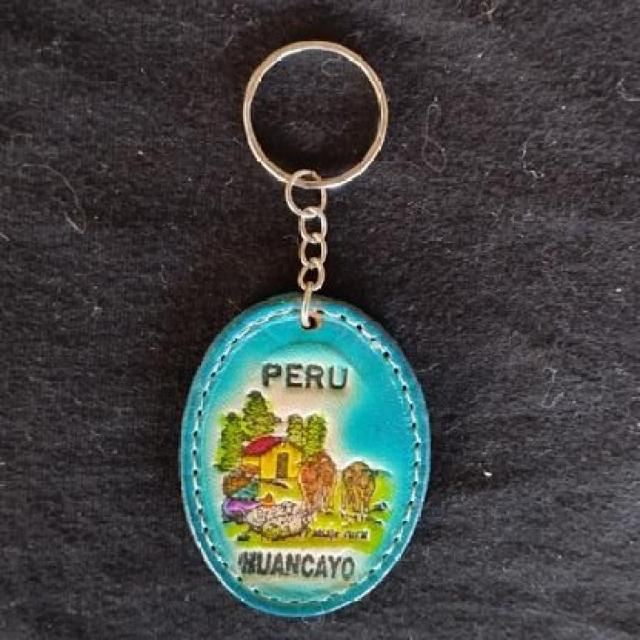Llavero: (177, 291, 432, 618)
